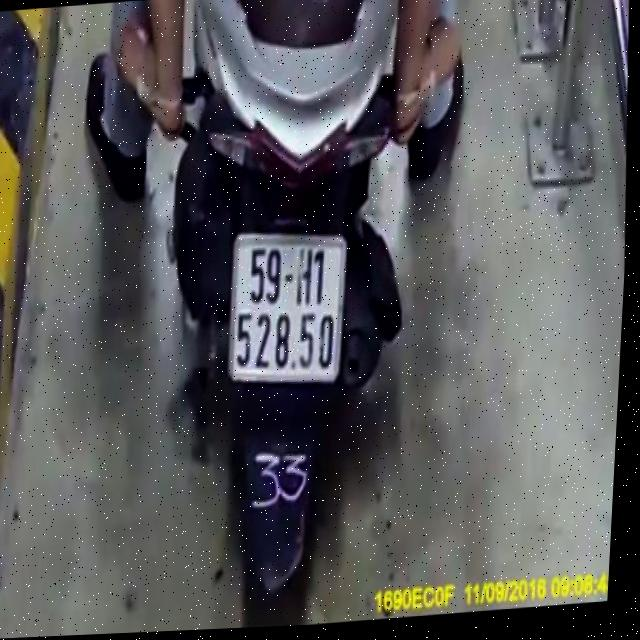motorcycle: (141, 0, 433, 632)
plate: (220, 218, 352, 393)
